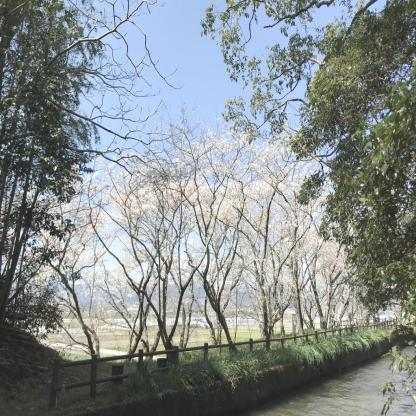Someiyoshino: (98, 130, 304, 315), (48, 178, 96, 276), (307, 235, 359, 302)
